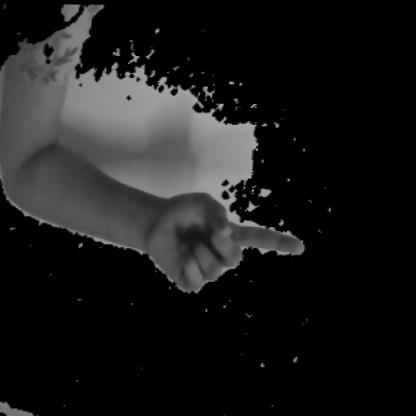one: (100, 150, 324, 363)
